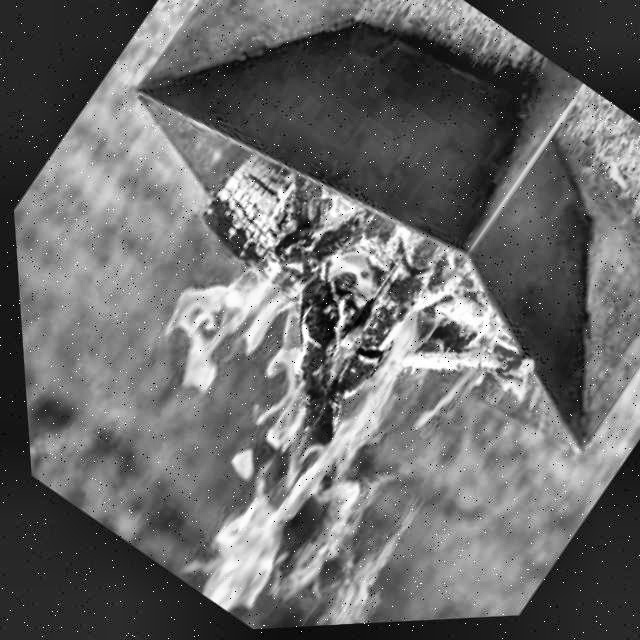Fire: (24, 166, 475, 635)
Smoke: (241, 451, 452, 631)
